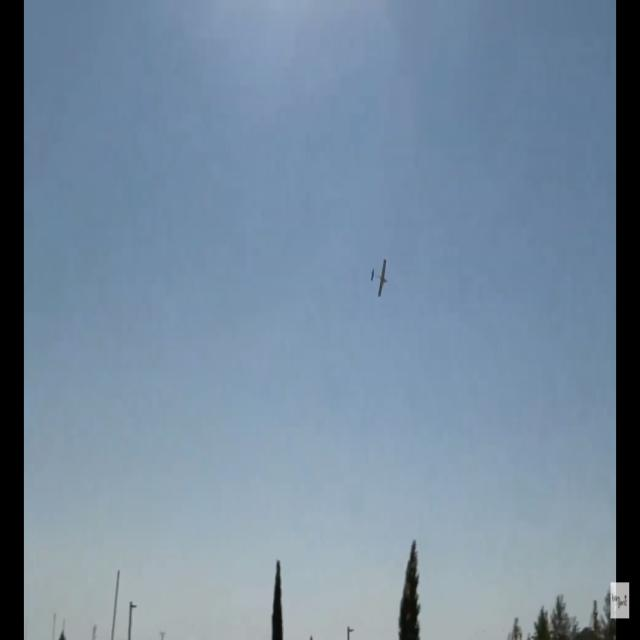iha: (368, 256, 389, 299)
